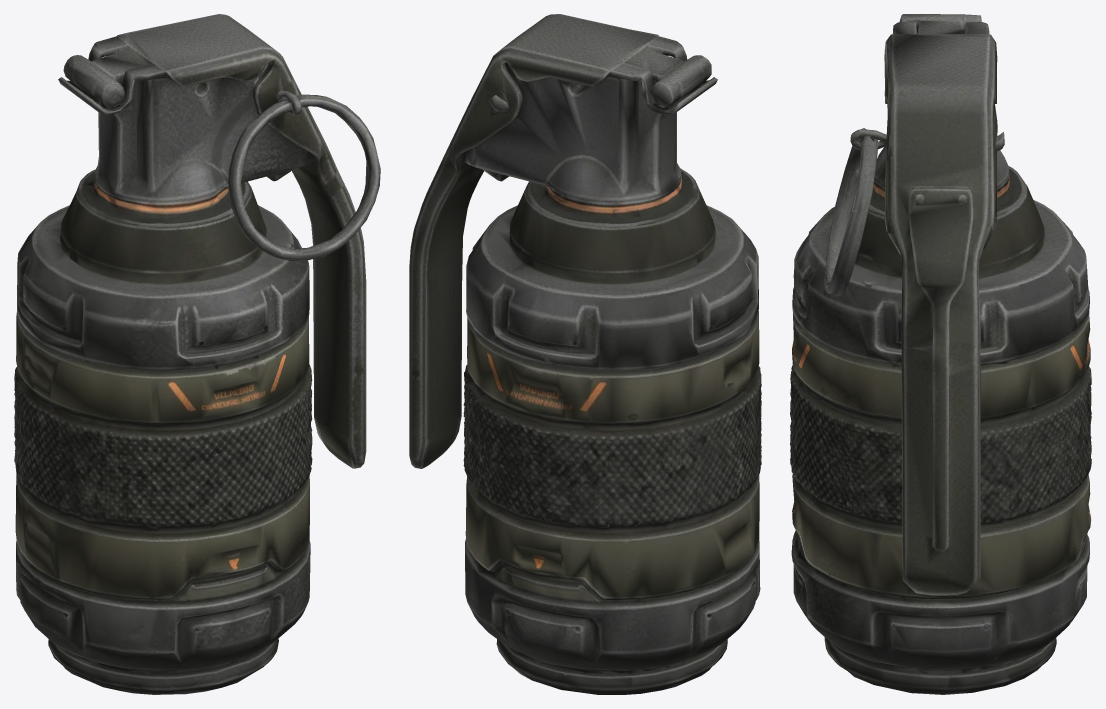
File: bomba_el.glb
3 renders of one model, left to right at view 1: azimuth 30°, elevation 25°; view 2: azimuth 150°, elevation 25°; view 3: azimuth 270°, elevation 25°, orthographic.
Parts seen in each view (by area): view 1: govde; view 2: govde; view 3: govde.
Boxes of the visible parts, x1,y1,x2,y2 form: govde: [14, 14, 380, 694]; govde: [409, 14, 761, 694]; govde: [790, 14, 1091, 694].
Bounding box in the file's own units: 0.066 × 0.1199 × 0.0542.
1 material, 1 textured.
